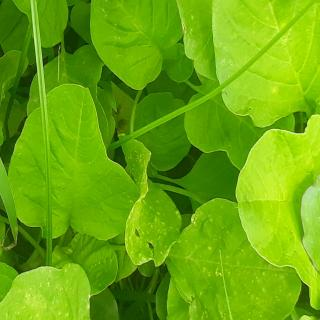karat_putih: (175, 198, 301, 320), (117, 126, 182, 270), (0, 259, 96, 320)
